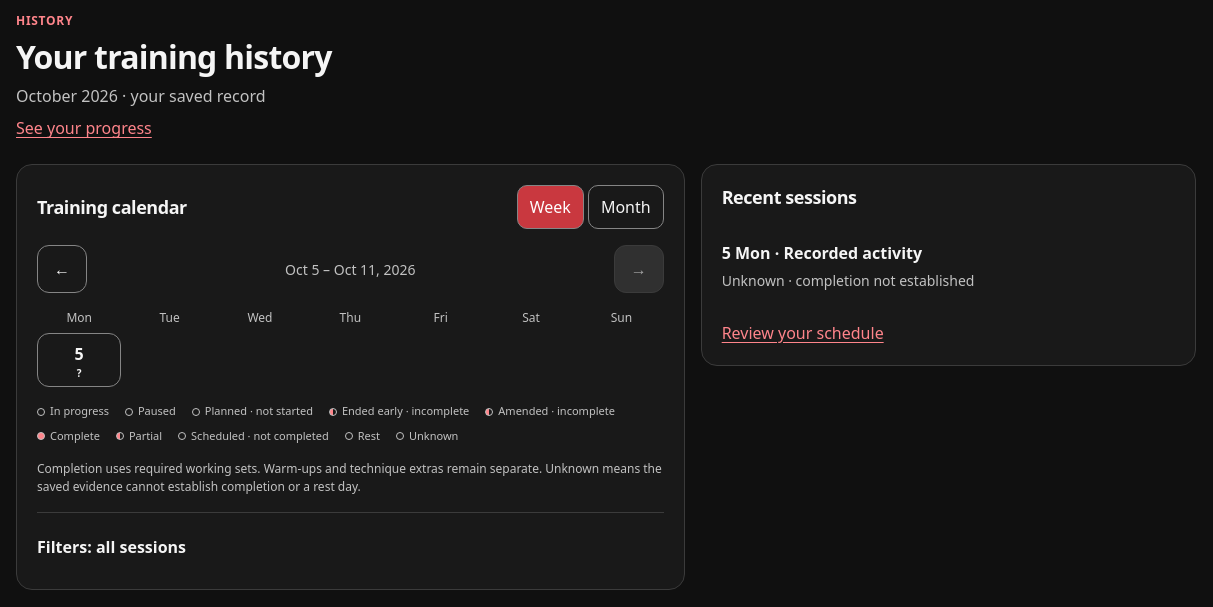
Test: History anchors calendar weeks to persisted Pacific/Auckland local day across the UTC week boundary
Check: the button named "2026-10-05: Unknown" is shown, box [37,333,121,387]
Click the button named "Previous window" at (62, 269), box [37,245,87,293]
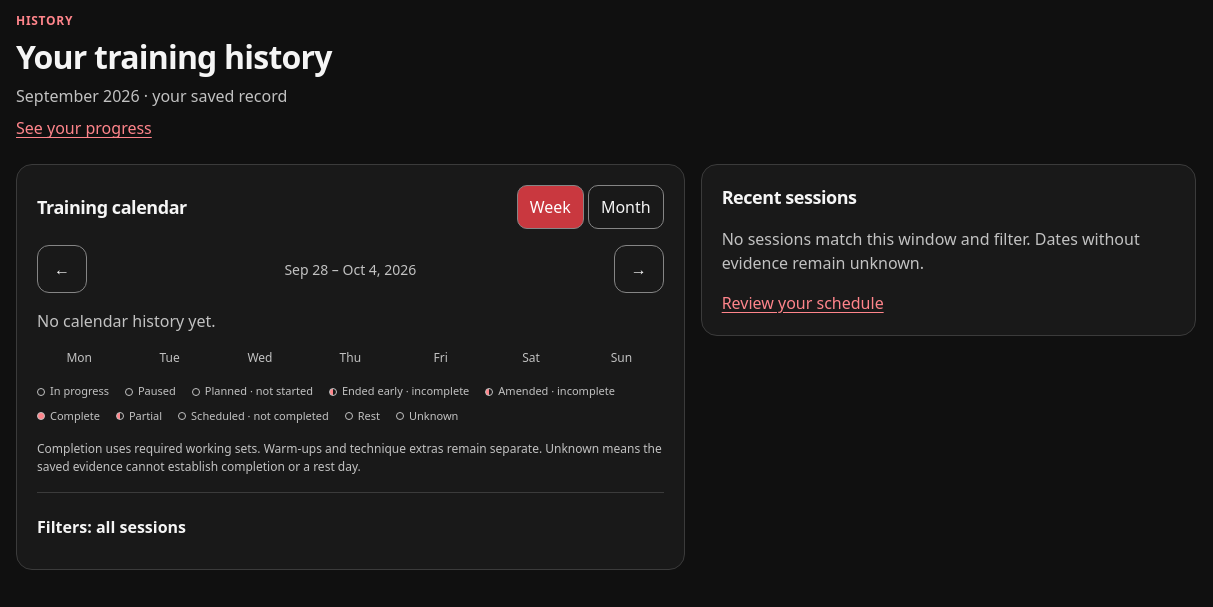
Check: the text "No calendar history yet." is shown, box [37,310,216,332]
Click the button named "Next window" at (639, 269), box [614,245,664,293]
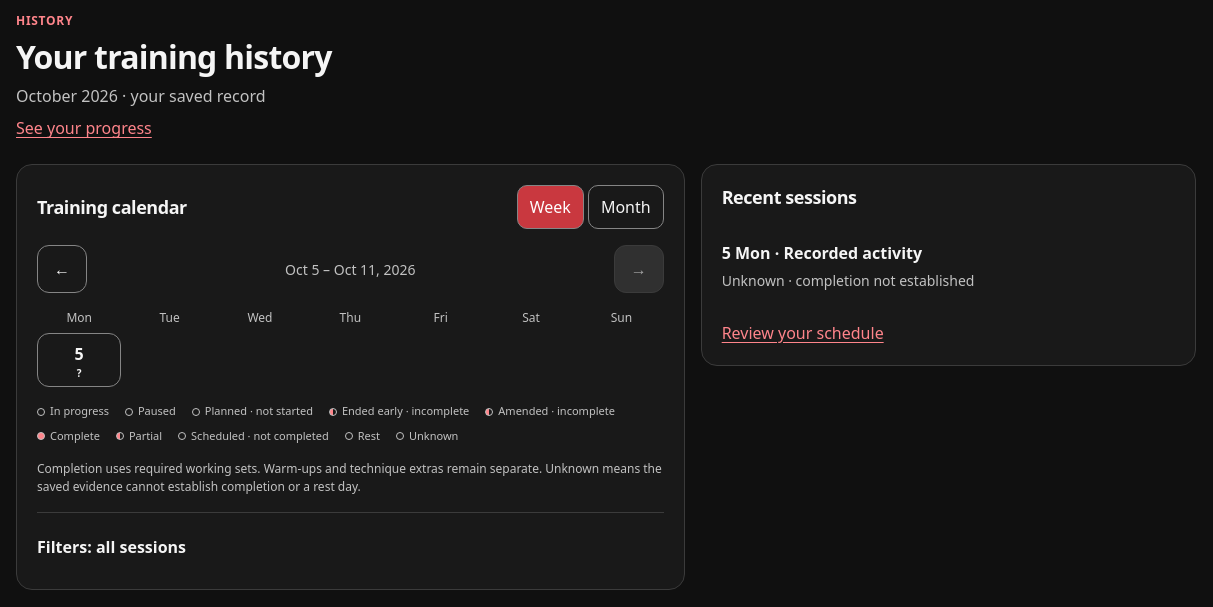
Check: the button named "2026-10-05: Unknown" is shown, box [37,333,121,387]
